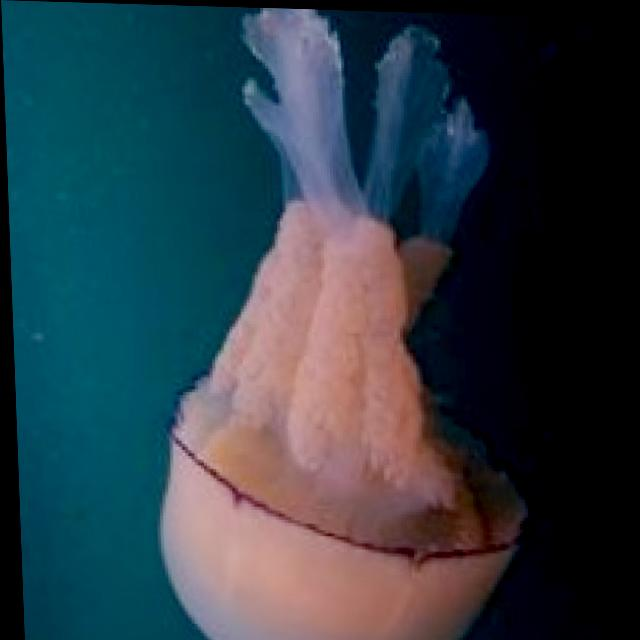Box-jellyfish: (134, 3, 534, 640)
